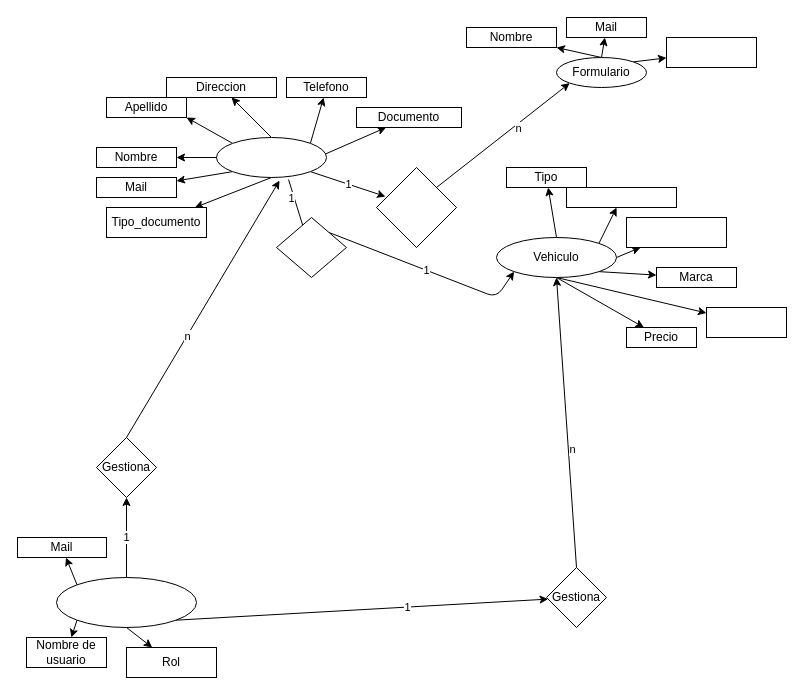
The diagram is 804 pixels wide and 695 high, and some of its shapes have lost their labels. The shapes that lost their labels are listed below. From the top down, each one's centre as x and y in pixels, then its label:
the point at 711,52: Mensaje
the point at 271,157: Usuario
the point at 416,207: Envia
the point at 621,197: Color
the point at 311,247: Reserva
the point at 676,232: Cantidad Pasajeros
the point at 746,322: Modelo
the point at 126,602: Tipo_Usuario
